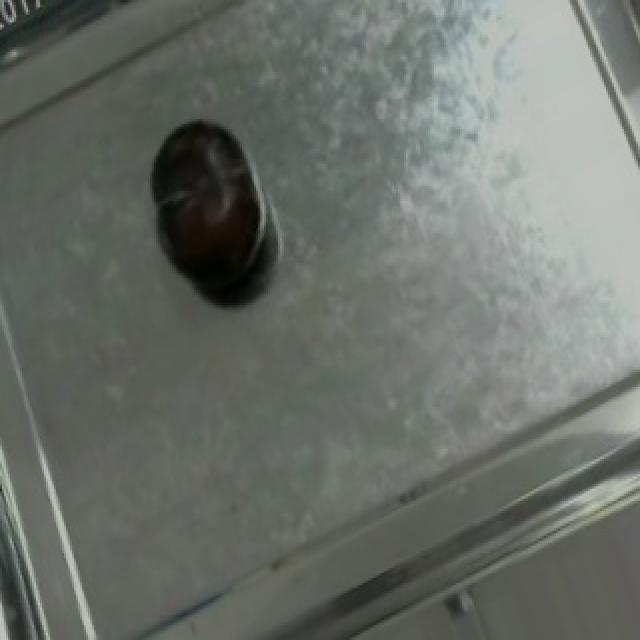Fruit: (134, 97, 282, 305)
